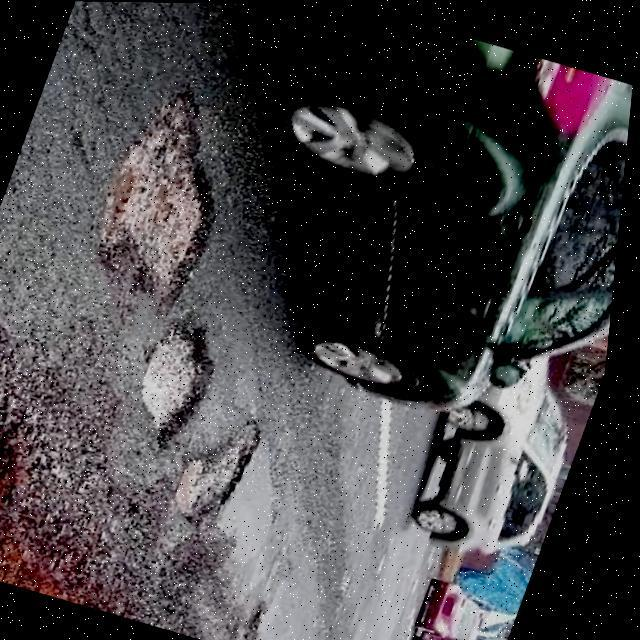pothole: (70, 70, 266, 315), (125, 310, 241, 454), (172, 401, 281, 534)
